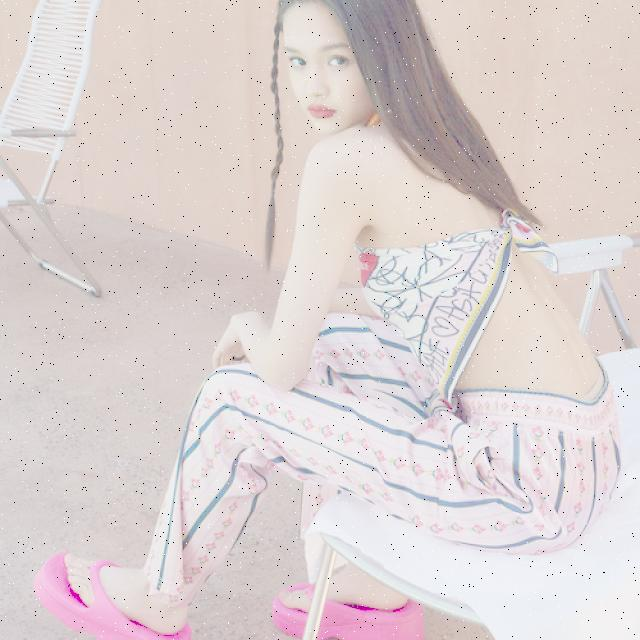Blouse_deep: (130, 299, 619, 640)
